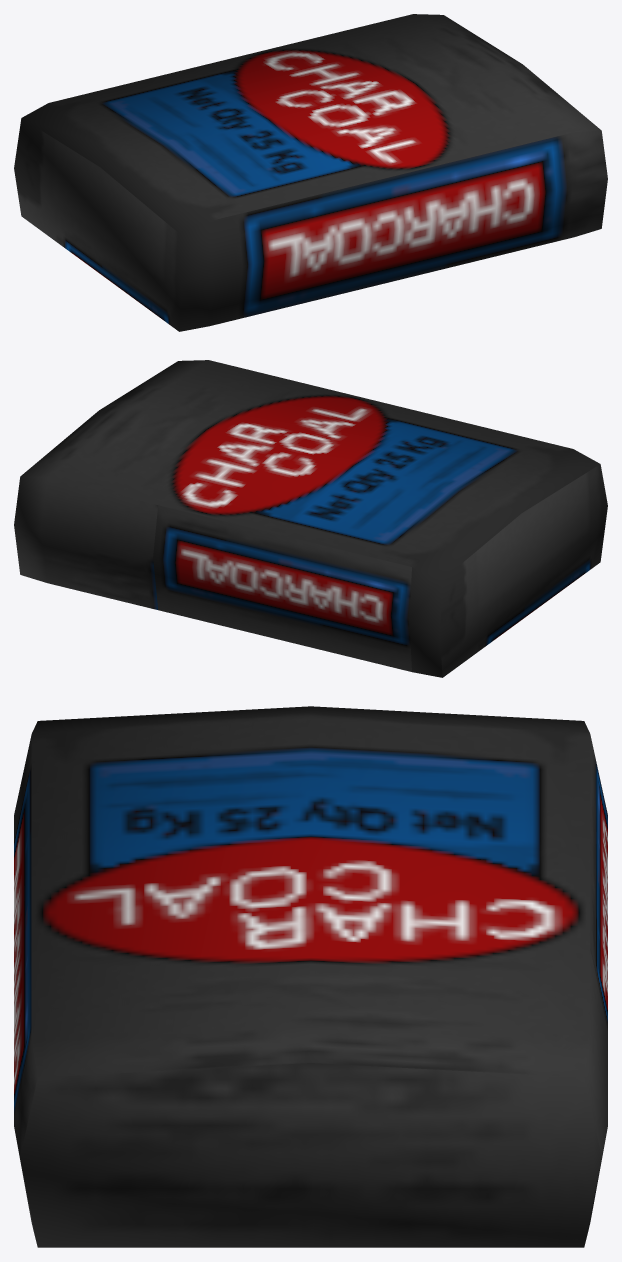
The model's file is BagOfCharcoal.fbx.
The picture shows the model from 3 angles, top to bottom: view 1: azimuth 30°, elevation 25°; view 2: azimuth 150°, elevation 25°; view 3: azimuth 270°, elevation 25°; orthographic projection. The views are drawn at different scales.
Visible parts, largest first — view 1: BagOfPlasterPowder; view 2: BagOfPlasterPowder; view 3: BagOfPlasterPowder.
Boxes of the visible parts, bbox=[...] form: BagOfPlasterPowder: bbox=[14, 14, 607, 331]; BagOfPlasterPowder: bbox=[14, 360, 607, 677]; BagOfPlasterPowder: bbox=[14, 706, 607, 1247].
Size of the model in its own units: 150 by 38.1 by 104.
